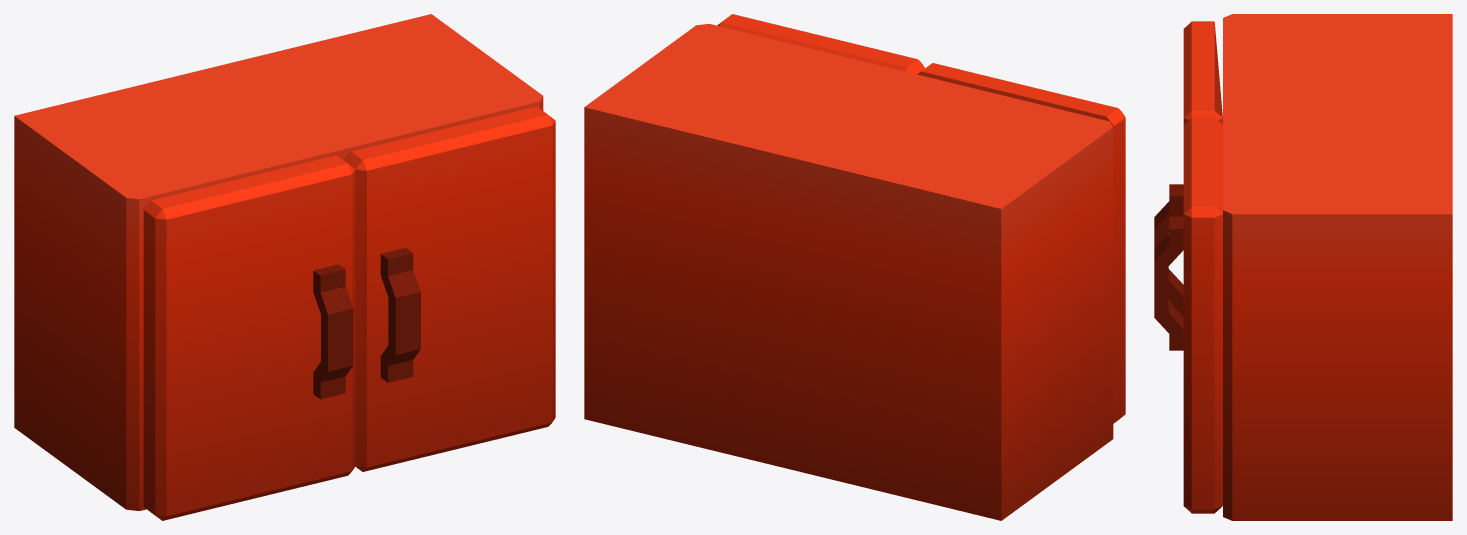
The model's file is Cabinet_01_L_C04.fbx.
3 views of the same model, side by side, from view 1: azimuth 30°, elevation 25°; view 2: azimuth 150°, elevation 25°; view 3: azimuth 270°, elevation 25° (orthographic).
Visible parts, largest first — view 1: Cabinet_01_L_C04, Cabinet_01_L_C04_Door_R, Cabinet_01_L_C04_Door_L; view 2: Cabinet_01_L_C04, Cabinet_01_L_C04_Door_R, Cabinet_01_L_C04_Door_L; view 3: Cabinet_01_L_C04, Cabinet_01_L_C04_Door_L, Cabinet_01_L_C04_Door_R.
Part boxes in pixels (x1,y1,x2,y2): Cabinet_01_L_C04: (14,14,543,510); Cabinet_01_L_C04_Door_R: (143,155,355,520); Cabinet_01_L_C04_Door_L: (344,106,555,471); Cabinet_01_L_C04: (584,24,1113,520); Cabinet_01_L_C04_Door_R: (917,63,1125,423); Cabinet_01_L_C04_Door_L: (717,14,924,74); Cabinet_01_L_C04: (1223,14,1452,520); Cabinet_01_L_C04_Door_L: (1154,117,1222,513); Cabinet_01_L_C04_Door_R: (1154,21,1222,316).
Bounding box in the file's own units: 100 × 71.44 × 62.96.
